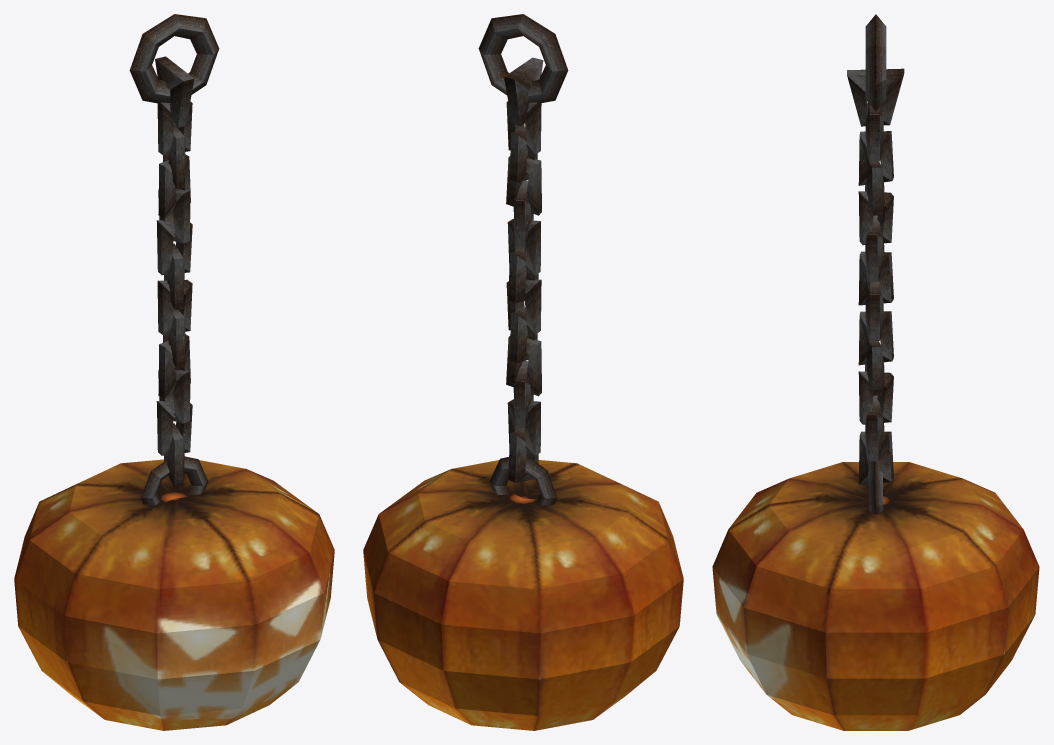
File: chainmine-lod0.glb
The picture shows the model from 3 angles, left to right: view 1: azimuth 30°, elevation 25°; view 2: azimuth 150°, elevation 25°; view 3: azimuth 270°, elevation 25°; orthographic projection.
Visible parts, largest first — view 1: Object_1, chainmine-lod0; view 2: Object_1, chainmine-lod0; view 3: Object_1, chainmine-lod0.
Part boxes in pixels (left/top/right/bottom): Object_1: left=14, top=459, right=334, bottom=730; chainmine-lod0: left=129, top=14, right=219, bottom=505; Object_1: left=363, top=460, right=683, bottom=730; chainmine-lod0: left=478, top=14, right=568, bottom=505; Object_1: left=712, top=462, right=1039, bottom=730; chainmine-lod0: left=847, top=14, right=904, bottom=514.
Size of the model in its own units: 9.54 by 23.12 by 10.03.
Materials: 2 (2 with a texture image).
